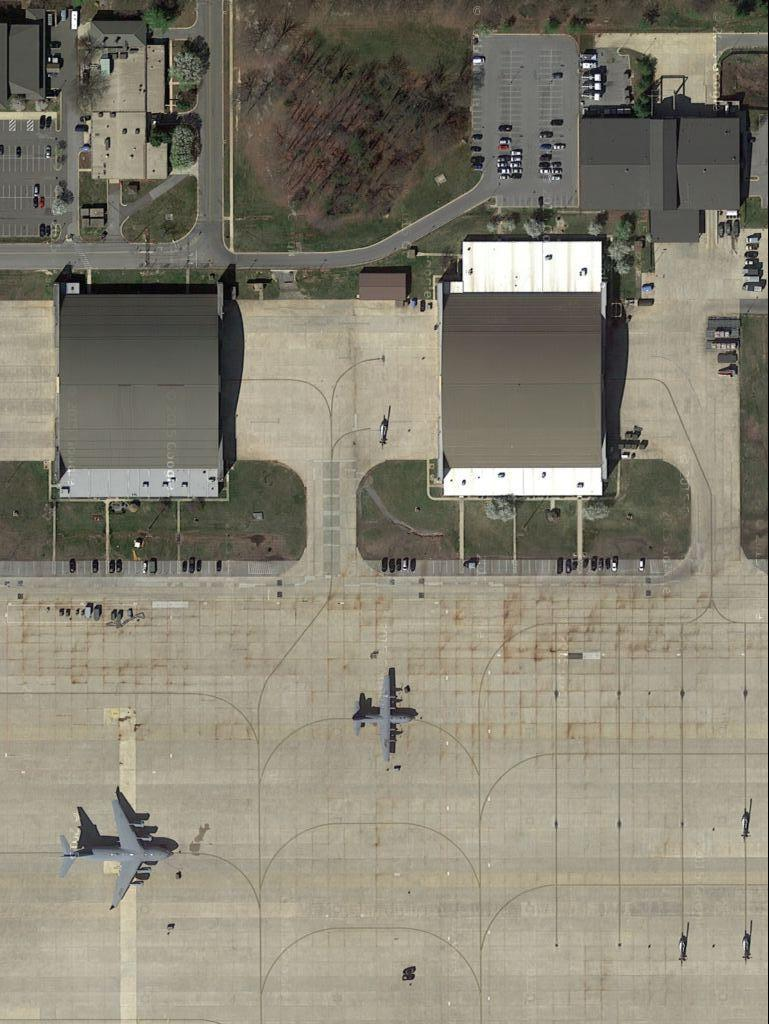C-130: (348, 665, 418, 767)
C-17: (52, 790, 182, 915)
